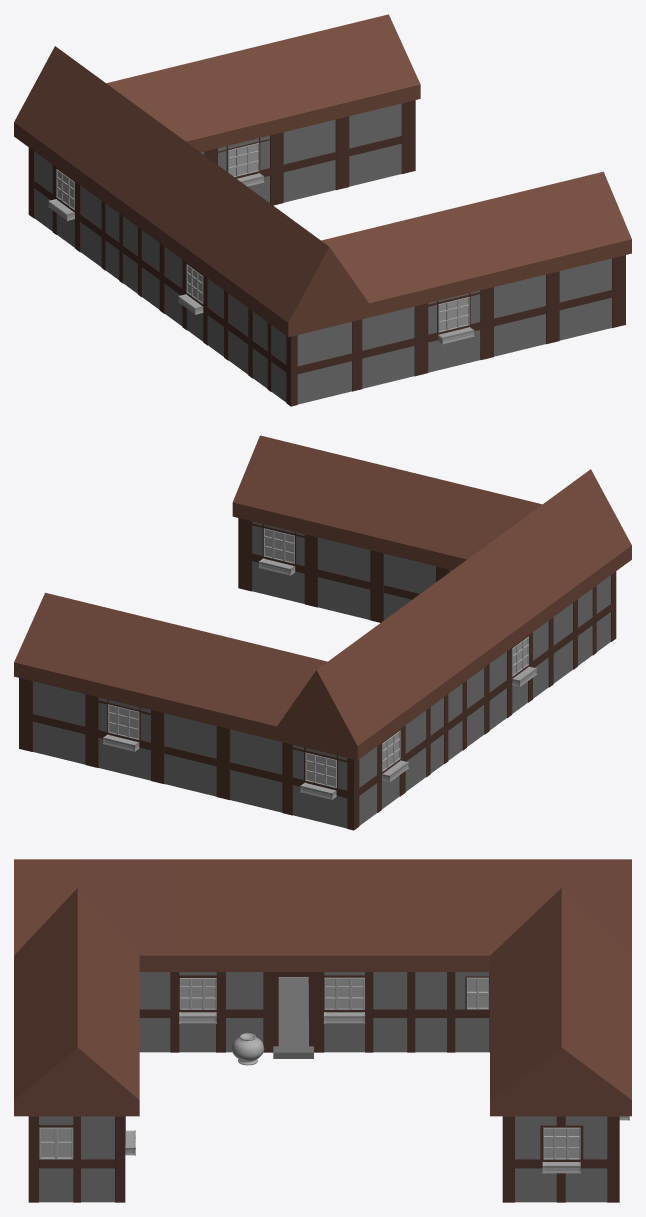
The model's file is UShape.fbx.
The picture shows the model from 3 angles, top to bottom: view 1: azimuth 30°, elevation 25°; view 2: azimuth 150°, elevation 25°; view 3: azimuth 270°, elevation 25°; orthographic projection. The views are drawn at different scales.
Visible parts, largest first — view 1: Window16; view 2: Window16; view 3: Window16.
Part boxes in pixels (<box>): Window16: <box>14,14,631,406</box>; Window16: <box>14,435,631,830</box>; Window16: <box>14,859,631,1202</box>.
Bounding box in the file's own units: 1101 × 468 × 1485.
